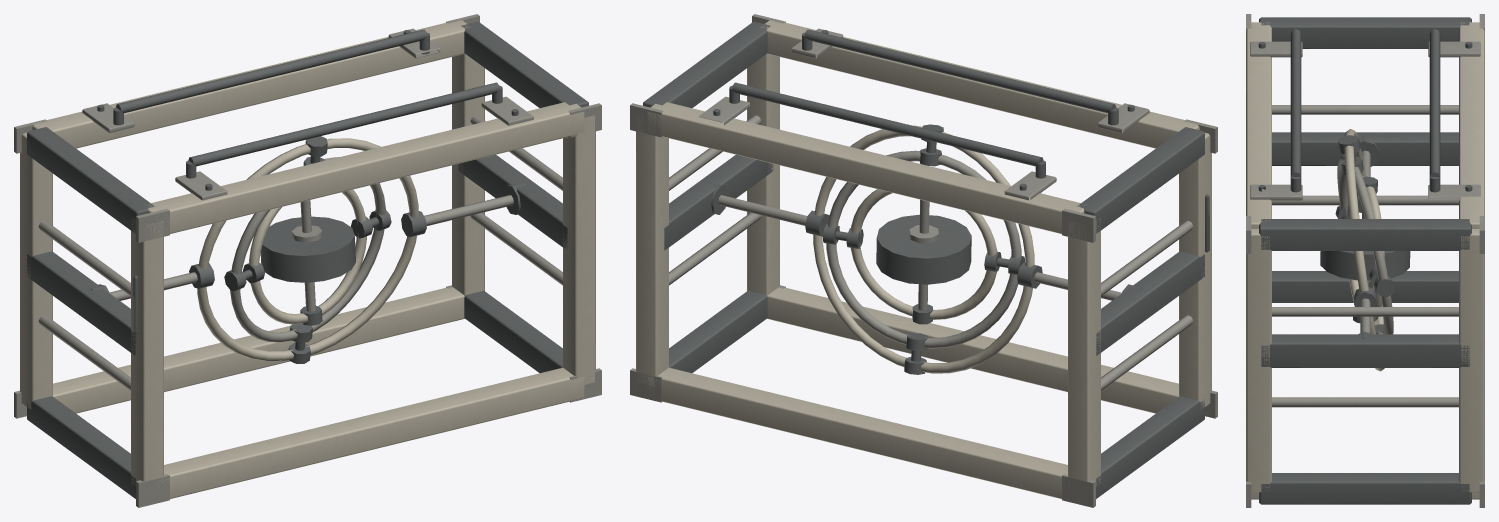
The model's file is 06-gimbal-gyroscope.fbx.
3 renders of one model, left to right at view 1: azimuth 30°, elevation 25°; view 2: azimuth 150°, elevation 25°; view 3: azimuth 270°, elevation 25°, orthographic. The views are drawn at different scales.
Visible parts, largest first — view 1: Frame long rail, Frame long rail.001, Frame long rail.002, Frame long rail.003, Frame upright.001, Frame upright, Frame upright.002, Outer hoop, Frame upright.003, Flywheel, Frame end rail.001, Bearing structural bridge (+19 smaller); view 2: Frame long rail.002, Frame long rail.003, Frame long rail, Frame long rail.001, Frame upright.002, Frame upright.003, Frame upright, Flywheel, Outer hoop, Frame upright.001, Frame end rail.001, Middle hoop (+20 smaller); view 3: Bearing structural bridge.001, Frame end rail.003, Frame end rail.002, Frame upright.003, Frame upright.001, Frame end rail.001, Frame long rail.003, Bearing structural bridge, Frame long rail.001, Frame end rail, Side grab.002, Side grab.003 (+16 smaller).
Part boxes in pixels (left/top/right/bottom): Frame long rail: left=156, top=367, right=584, bottom=498; Frame long rail.001: left=147, top=102, right=584, bottom=235; Frame long rail.002: left=52, top=287, right=464, bottom=413; Frame long rail.003: left=32, top=20, right=470, bottom=148; Frame upright.001: left=563, top=115, right=595, bottom=384; Frame upright: left=131, top=217, right=163, bottom=489; Frame upright.002: left=20, top=132, right=52, bottom=409; Outer hoop: left=197, top=138, right=418, bottom=360; Frame upright.003: left=452, top=53, right=484, bottom=295; Flywheel: left=260, top=216, right=355, bottom=282; Frame end rail.001: left=27, top=127, right=154, bottom=233; Bearing structural bridge: left=27, top=251, right=135, bottom=355; Frame long rail.002: left=647, top=367, right=1067, bottom=498; Frame long rail.003: left=647, top=102, right=1086, bottom=233; Frame long rail: left=767, top=287, right=1179, bottom=413; Frame long rail.001: left=761, top=20, right=1199, bottom=148; Frame upright.002: left=1068, top=218, right=1100, bottom=488; Frame upright.003: left=636, top=115, right=668, bottom=386; Frame upright: left=1179, top=132, right=1211, bottom=408; Flywheel: left=876, top=214, right=971, bottom=284; Outer hoop: left=813, top=125, right=1034, bottom=373; Frame upright.001: left=747, top=53, right=779, bottom=295; Frame end rail.001: left=1077, top=127, right=1204, bottom=233; Middle hoop: left=826, top=150, right=1021, bottom=348; Bearing structural bridge.001: left=1261, top=334, right=1469, bottom=367; Frame end rail.003: left=1259, top=219, right=1471, bottom=250; Frame end rail.002: left=1259, top=473, right=1471, bottom=504; Frame upright.003: left=1459, top=229, right=1484, bottom=492; Frame upright.001: left=1246, top=229, right=1271, bottom=492; Frame end rail.001: left=1259, top=17, right=1471, bottom=48; Frame long rail.003: left=1459, top=22, right=1484, bottom=228; Bearing structural bridge: left=1272, top=132, right=1458, bottom=165; Frame long rail.001: left=1246, top=22, right=1271, bottom=228; Frame end rail: left=1272, top=271, right=1458, bottom=302; Side grab.002: left=1272, top=397, right=1458, bottom=407; Side grab.003: left=1272, top=307, right=1458, bottom=316.
Size of the model in its own units: 118 by 76 by 55.
Materials: 5 (5 with a texture image).
